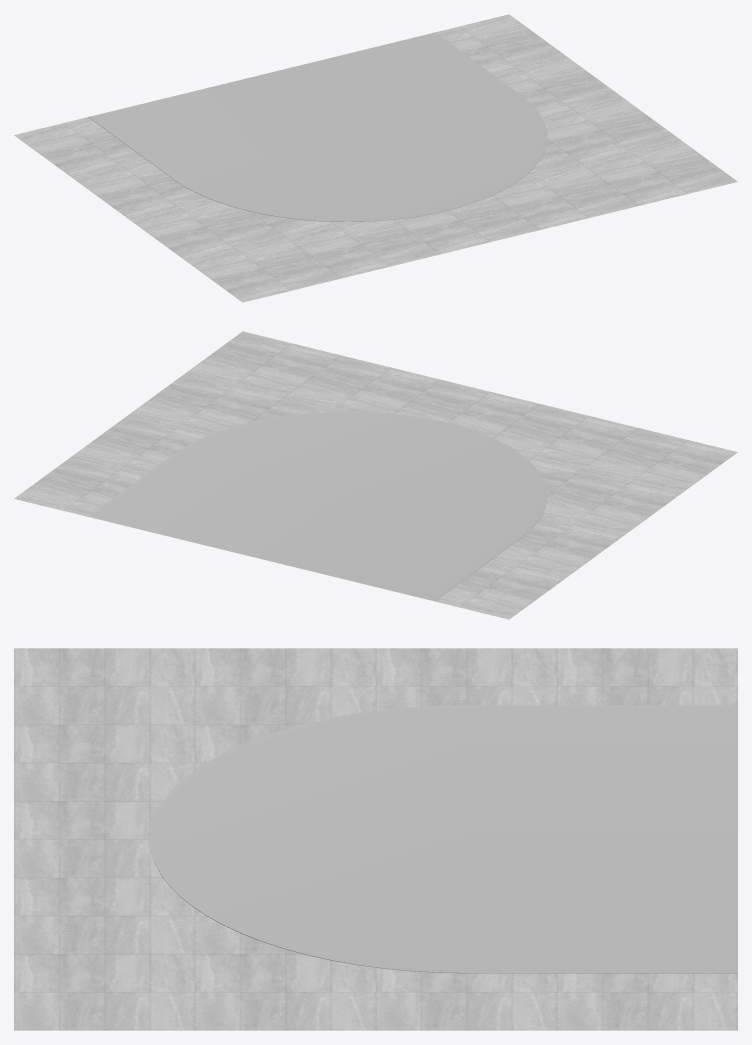
The picture shows the model from 3 angles, top to bottom: view 1: azimuth 30°, elevation 25°; view 2: azimuth 150°, elevation 25°; view 3: azimuth 270°, elevation 25°; orthographic projection. The views are drawn at different scales.
Visible parts, largest first — view 1: M_F_001_b_20x16; view 2: M_F_001_b_20x16; view 3: M_F_001_b_20x16.
Part boxes in pixels (x1,y1,x2,y2): M_F_001_b_20x16: (14,14,737,302); M_F_001_b_20x16: (14,331,737,619); M_F_001_b_20x16: (14,648,737,1030).
Bounding box in the file's own units: 20 × 0.01 × 16.
